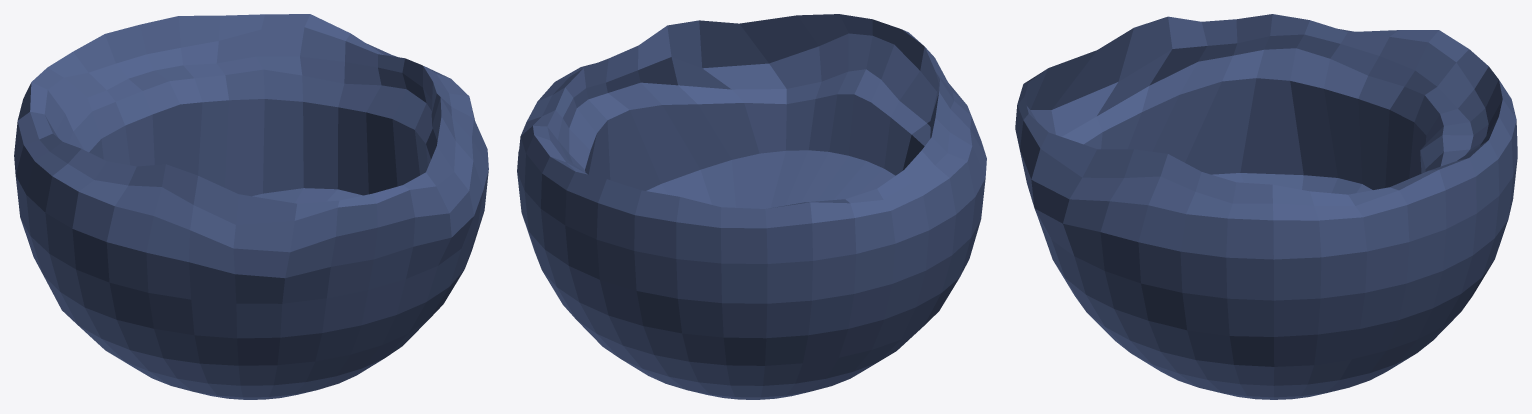
File: peak_middle.glb
The picture shows the model from 3 angles, left to right: view 1: azimuth 30°, elevation 25°; view 2: azimuth 150°, elevation 25°; view 3: azimuth 270°, elevation 25°; orthographic projection. The views are drawn at different scales.
Visible parts, largest first — view 1: Sphere; view 2: Sphere; view 3: Sphere.
Part boxes in pixels (x1,y1,x2,y2): Sphere: (14, 14, 488, 399); Sphere: (517, 14, 986, 399); Sphere: (1015, 14, 1517, 399).
Size of the model in its own units: 2 by 1.32 by 2.06.
